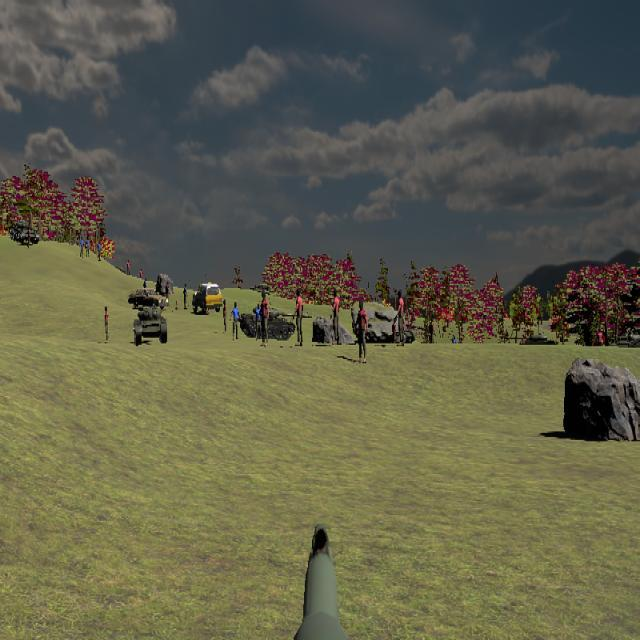Human: (354, 299, 369, 364), (293, 287, 305, 346), (331, 290, 342, 346)
Tank: (240, 307, 307, 341), (133, 306, 168, 346)
car: (192, 282, 225, 314), (128, 287, 169, 310)
